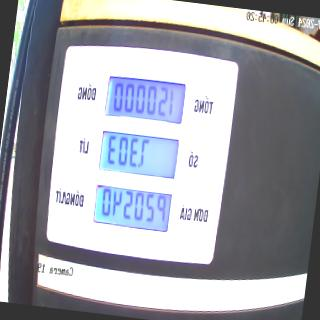screen: (88, 72, 188, 236)
